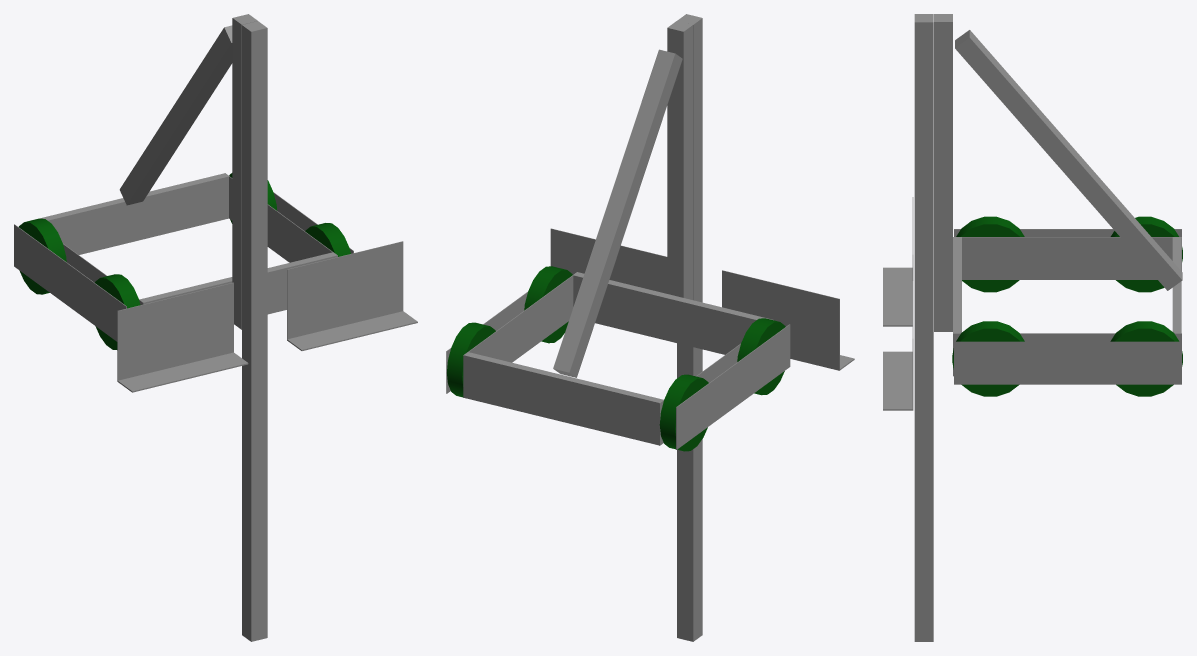
Rendered from clawbot.FBX.
3 views of the same model, side by side, from view 1: azimuth 30°, elevation 25°; view 2: azimuth 150°, elevation 25°; view 3: azimuth 270°, elevation 25° (orthographic).
Visible parts, largest first — view 1: Box014, Box010, Box011, Box002, Box015, Box004, Box013, Box005, Box012, Cylinder004, Cylinder003, Cylinder001 (+2 smaller); view 2: Box002, Box015, Box014, Box012, Box013, Box010, Box004, Box005, Box011, Cylinder004, Cylinder002, Cylinder003 (+3 smaller); view 3: Box014, Box003, Box001, Box015, Box013, Box011, Box010, Cylinder001, Cylinder002, Cylinder003, Cylinder004, Box012 (+3 smaller).
Part boxes in pixels (x1,y1,x2,y2): Box014: [242, 21, 267, 641]; Box010: [117, 282, 248, 392]; Box011: [287, 241, 417, 350]; Box002: [39, 173, 229, 254]; Box015: [119, 25, 232, 205]; Box004: [14, 224, 126, 341]; Box013: [232, 14, 257, 329]; Box005: [229, 176, 336, 262]; Box012: [139, 252, 337, 314]; Cylinder004: [19, 218, 66, 294]; Cylinder003: [94, 274, 140, 349]; Cylinder001: [305, 223, 350, 256]; Box002: [463, 352, 663, 445]; Box015: [553, 49, 682, 377]; Box014: [677, 14, 702, 641]; Box012: [573, 272, 773, 354]; Box013: [667, 21, 692, 299]; Box010: [722, 270, 854, 370]; Box004: [676, 324, 790, 449]; Box005: [463, 272, 576, 397]; Box011: [550, 228, 667, 293]; Cylinder004: [659, 374, 708, 451]; Cylinder002: [447, 322, 495, 397]; Cylinder003: [737, 318, 785, 395]; Box014: [914, 14, 933, 641]; Box003: [954, 341, 1181, 384]; Box001: [954, 237, 1181, 279]; Box015: [955, 30, 1182, 290]; Box013: [934, 14, 952, 331]; Box011: [883, 281, 913, 410]; Box010: [883, 197, 913, 326]; Cylinder001: [952, 321, 1024, 396]; Cylinder002: [1110, 321, 1182, 396]; Cylinder003: [956, 216, 1024, 292]; Cylinder004: [1110, 216, 1182, 292]; Box012: [953, 237, 961, 376].
Bounding box in the file's own units: 0.4477 × 0.9142 × 0.4008.
